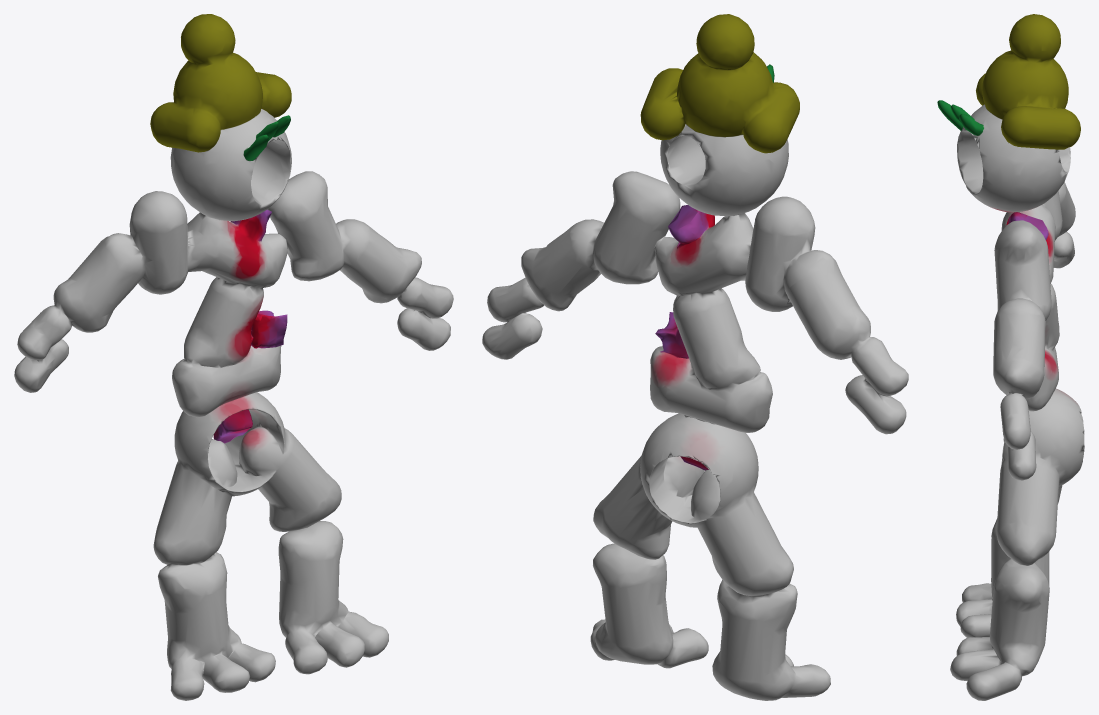
Rendered from pt_woman.gltf.
3 renders of one model, left to right at view 1: azimuth 30°, elevation 25°; view 2: azimuth 150°, elevation 25°; view 3: azimuth 270°, elevation 25°, orthographic. The views are drawn at different scales.
Parts seen in each view (by area): view 1: Layer_1; view 2: Layer_1; view 3: Layer_1.
Boxes of the visible parts, bbox=[...] form: Layer_1: bbox=[14, 14, 453, 700]; Layer_1: bbox=[482, 14, 908, 700]; Layer_1: bbox=[937, 14, 1084, 700].
Bounding box in the file's own units: 1.2 × 1.8 × 0.3858.
